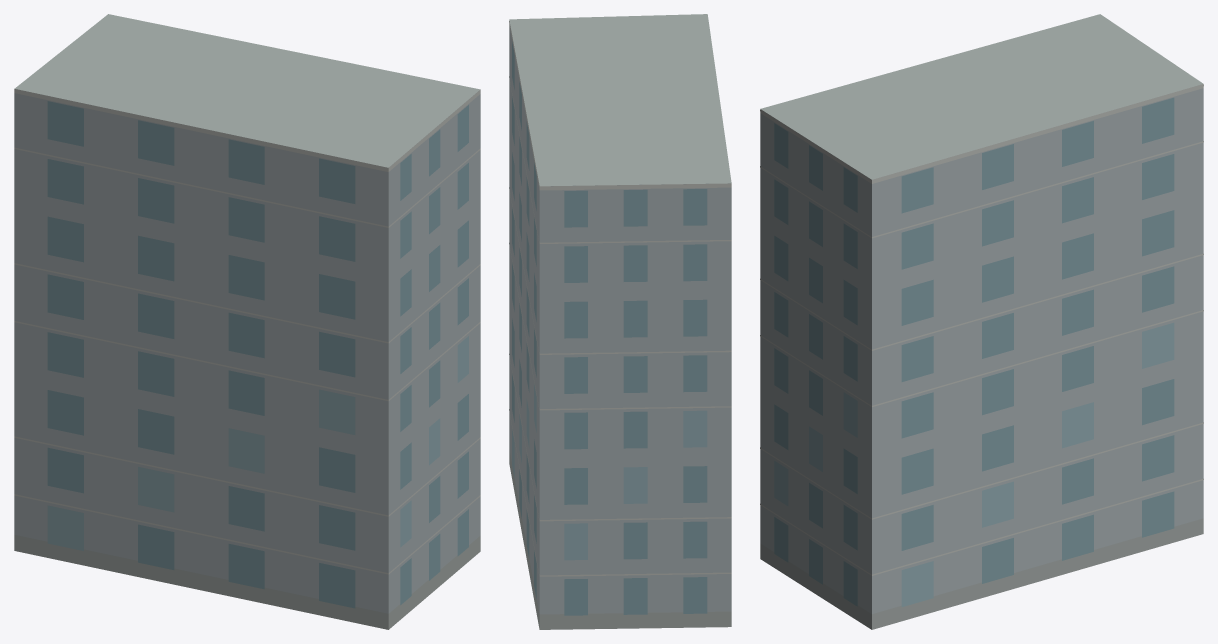
The model's file is survey-upis-32831345.glb.
The picture shows the model from 3 angles, left to right: view 1: azimuth 30°, elevation 25°; view 2: azimuth 150°, elevation 25°; view 3: azimuth 270°, elevation 25°; orthographic projection. The views are drawn at different scales.
Parts seen in each view (by area): view 1: survey-upis-32831345.tmp; view 2: survey-upis-32831345.tmp; view 3: survey-upis-32831345.tmp.
Part boxes in pixels (x1,y1,x2,y2): survey-upis-32831345.tmp: (14,14,480,629); survey-upis-32831345.tmp: (509,14,731,629); survey-upis-32831345.tmp: (760,14,1203,629).
Bounding box in the file's own units: 20.41 × 25.8 × 23.06.
